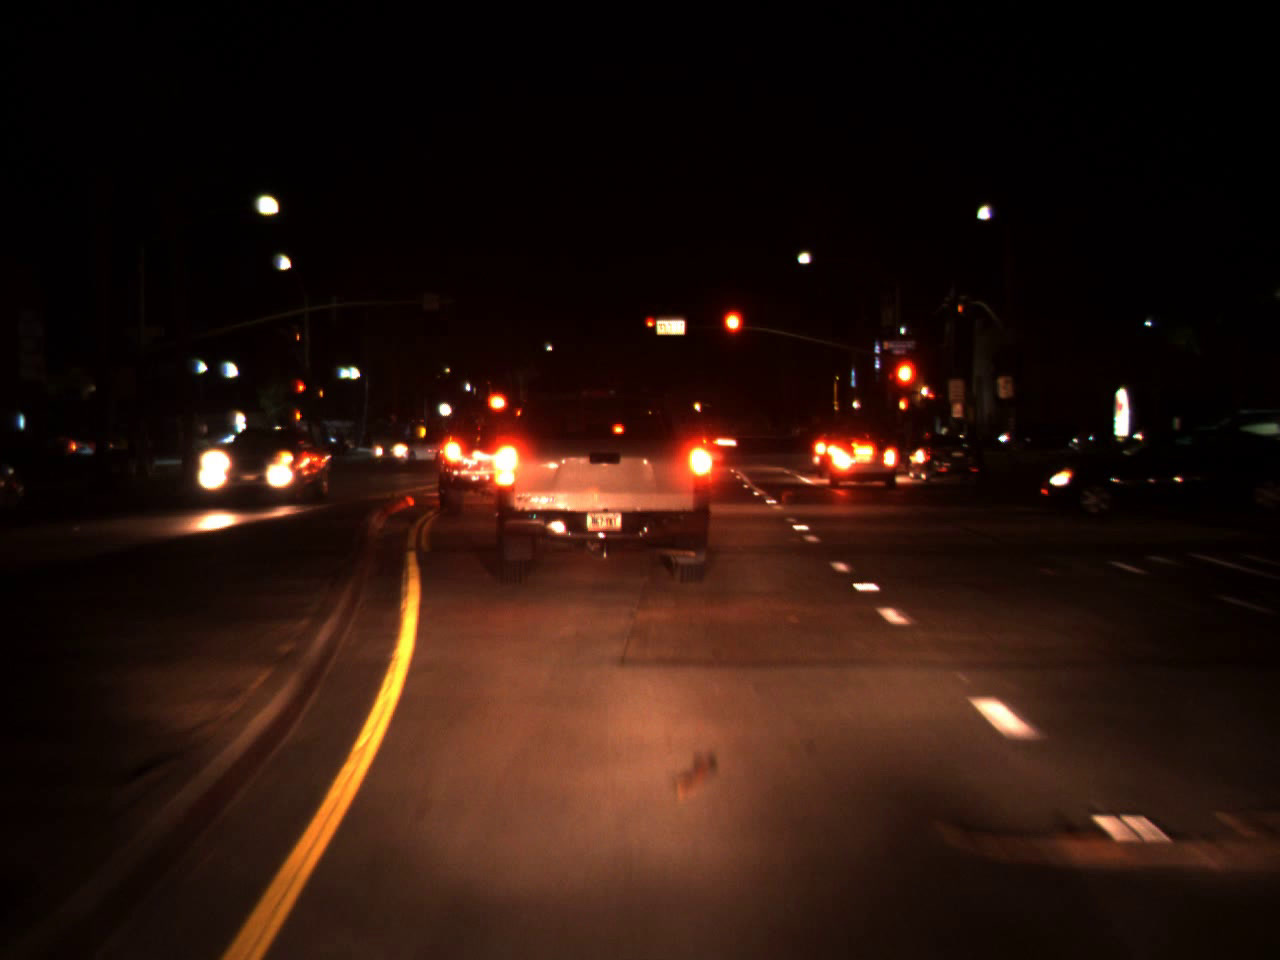stop: (891, 354, 921, 421), (720, 307, 745, 361), (296, 379, 308, 406), (645, 316, 657, 337)
